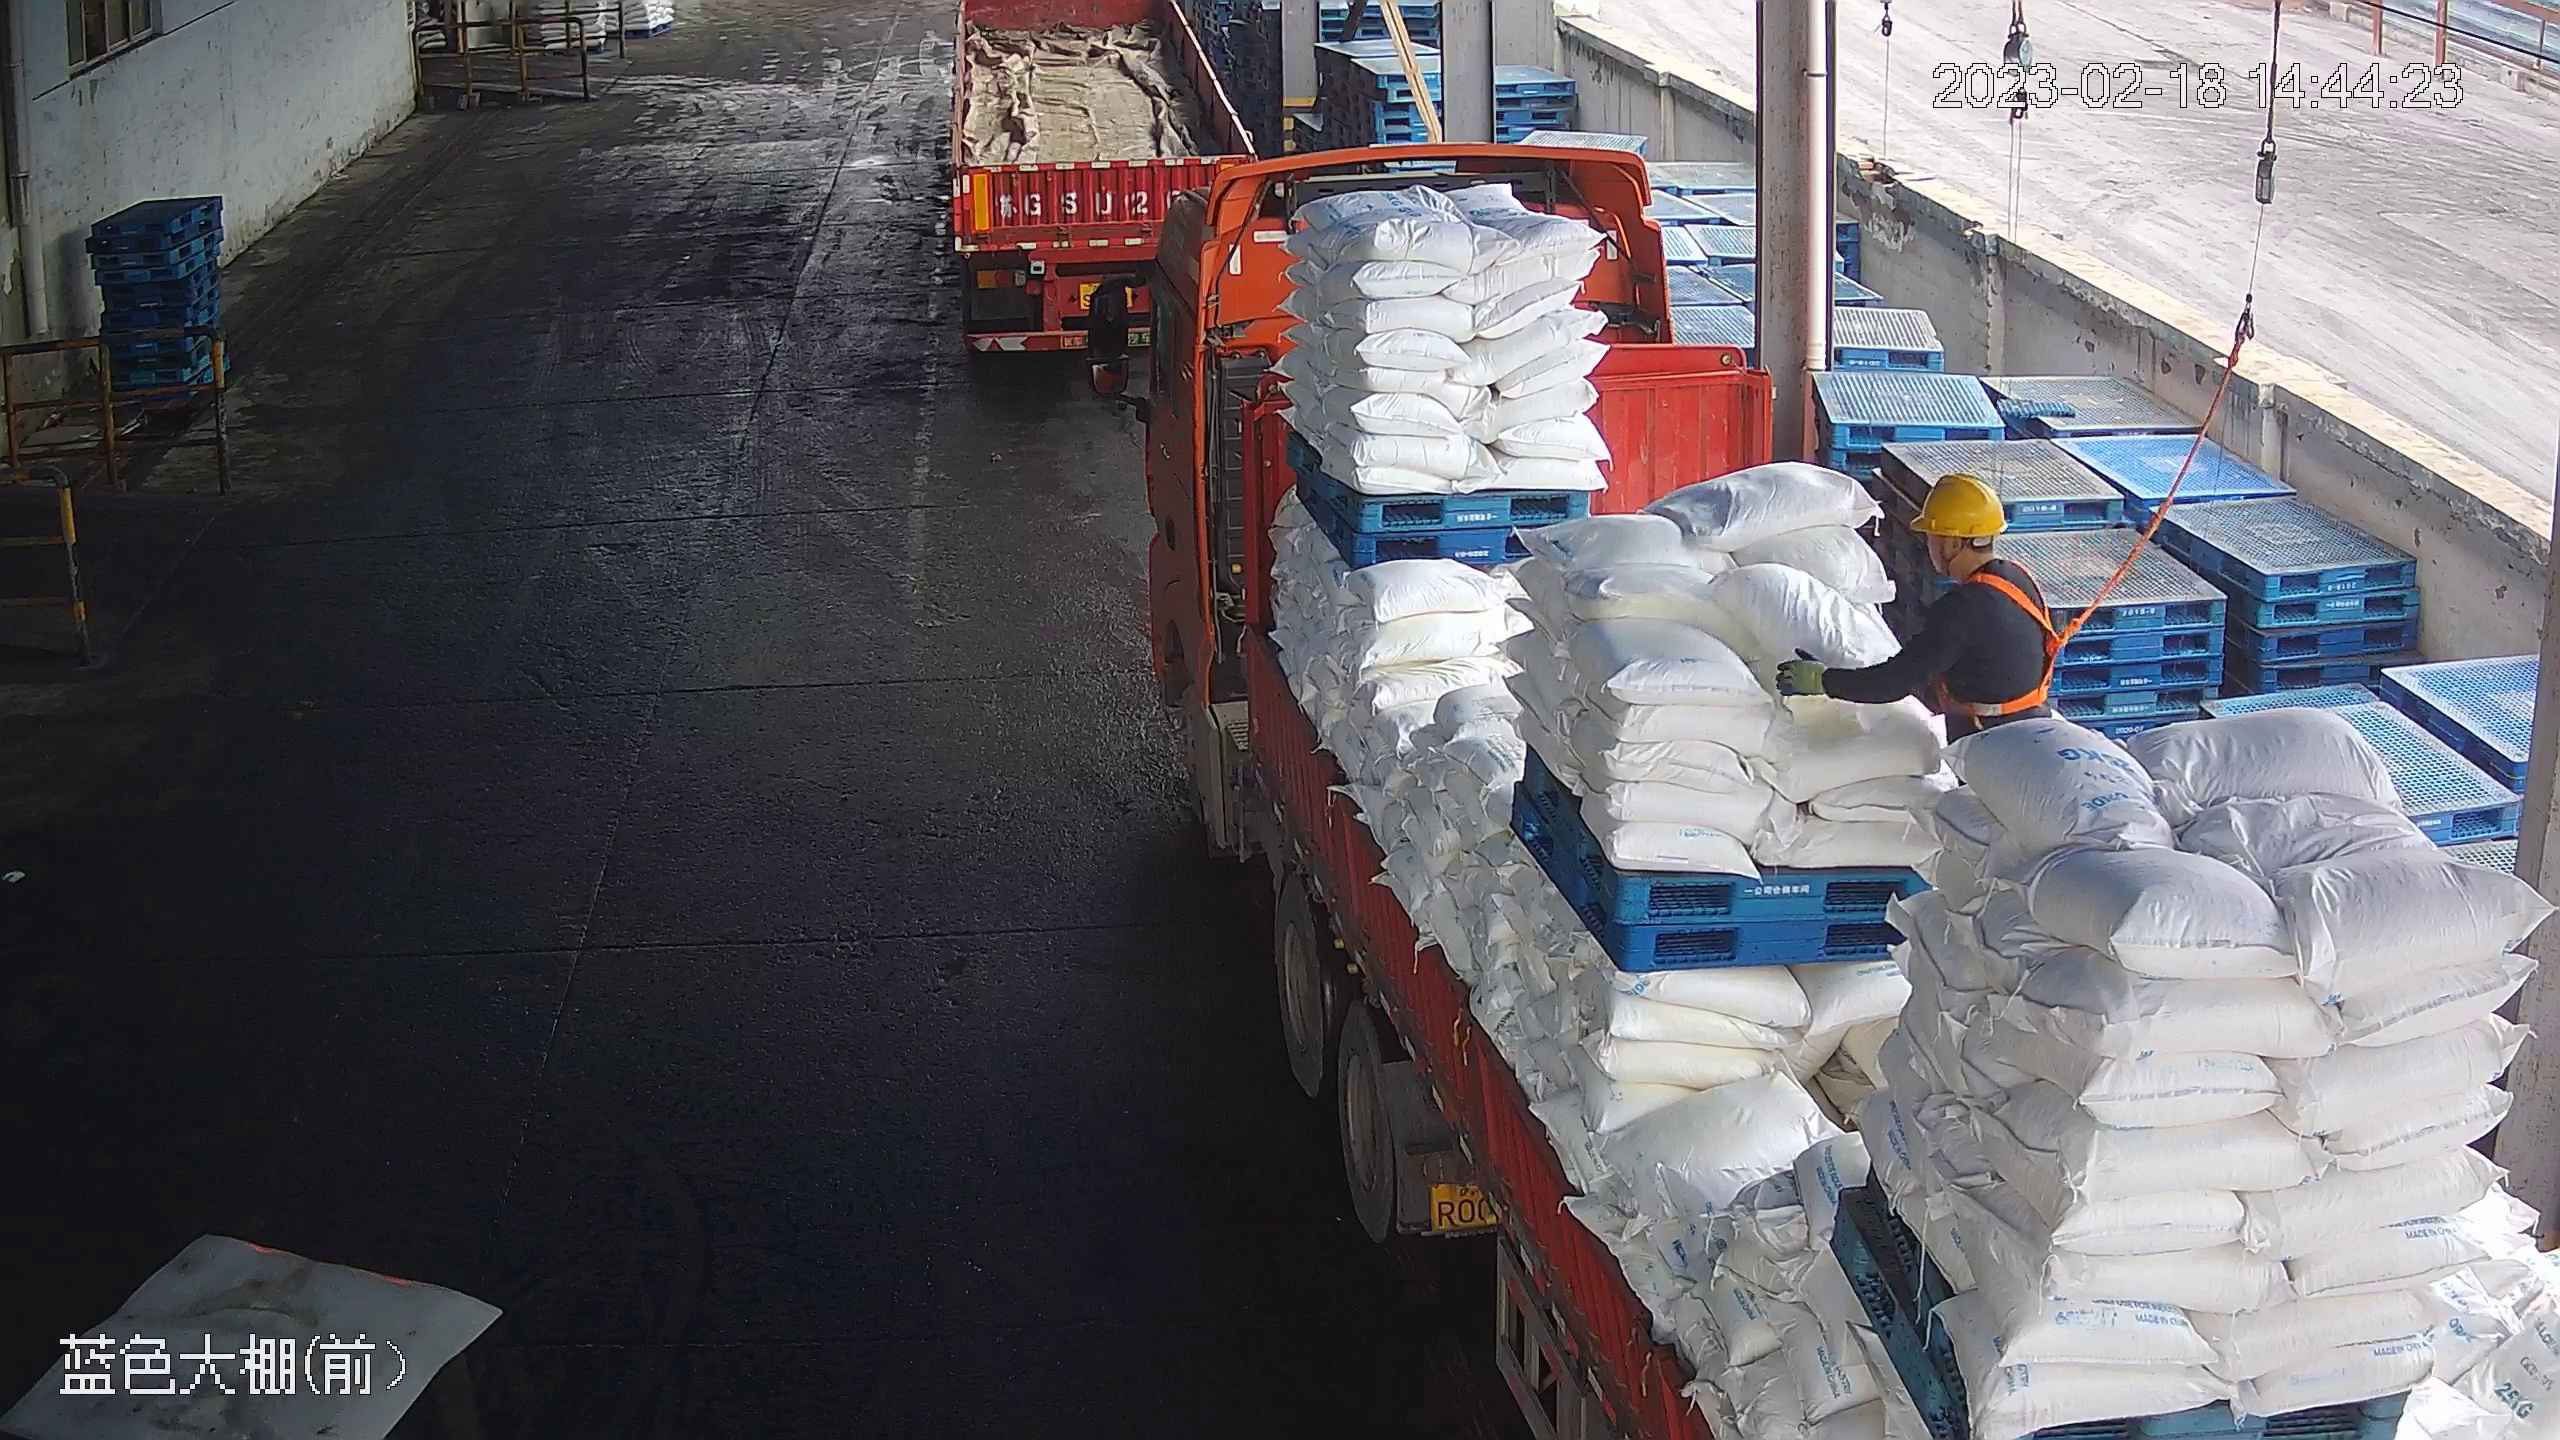belt: (1933, 556, 2083, 726)
head: (1904, 468, 2048, 633)
helmet: (1904, 470, 2008, 537)
people: (1775, 467, 2058, 778)
truck: (1085, 139, 2555, 1434), (946, 1, 1266, 356)
